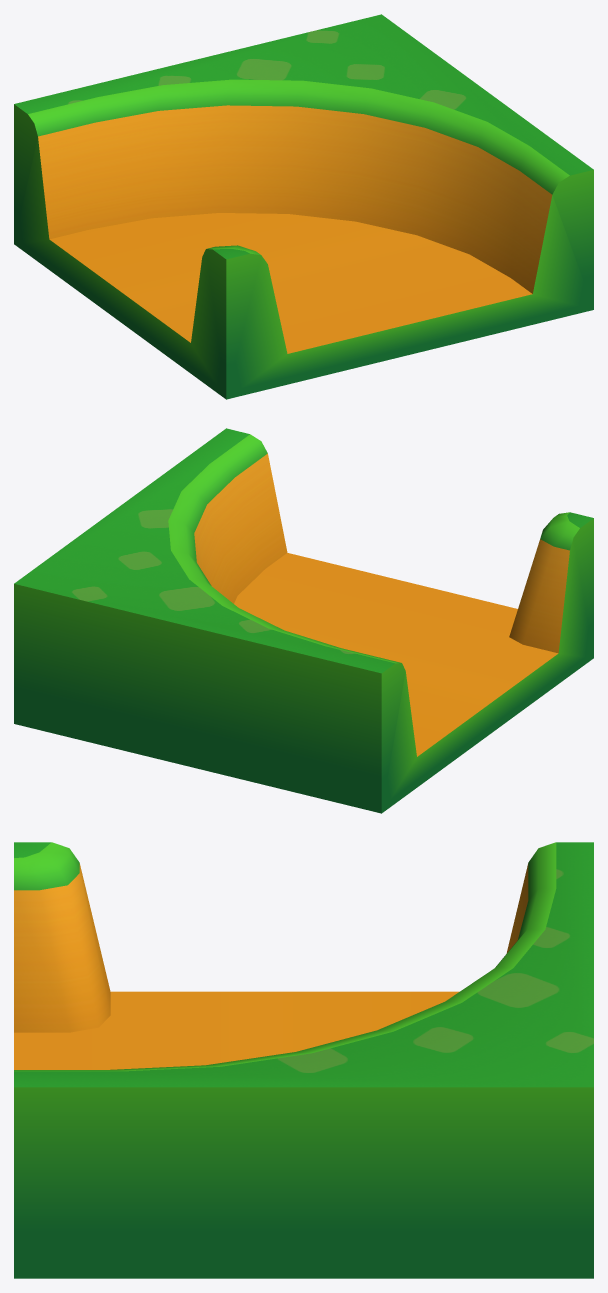
The model's file is RiverTile_3_1.glb.
3 renders of one model, top to bottom at view 1: azimuth 30°, elevation 25°; view 2: azimuth 150°, elevation 25°; view 3: azimuth 270°, elevation 25°, orthographic. The views are drawn at different scales.
Parts seen in each view (by area): view 1: RiverTile_3_1; view 2: RiverTile_3_1; view 3: RiverTile_3_1.
Part boxes in pixels (x1,y1,x2,y2): RiverTile_3_1: [14, 14, 593, 399]; RiverTile_3_1: [14, 428, 593, 813]; RiverTile_3_1: [14, 842, 593, 1278].
Bounding box in the file's own units: 4 × 1.46 × 4.
3 materials, 3 textured.
